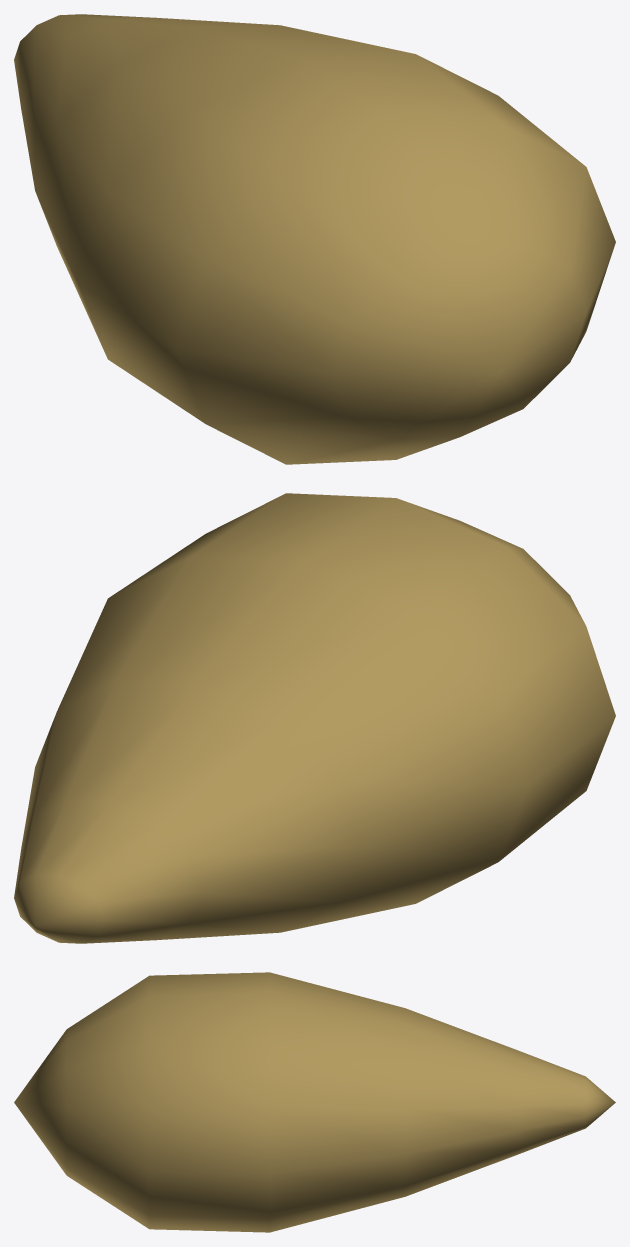
Rendered from seed.glb.
The picture shows the model from 3 angles, top to bottom: view 1: azimuth 30°, elevation 25°; view 2: azimuth 150°, elevation 25°; view 3: azimuth 270°, elevation 25°; orthographic projection. The views are drawn at different scales.
Visible parts, largest first — view 1: seed; view 2: seed; view 3: seed.
Boxes of the visible parts, x1=… form: seed: x1=14, y1=14, x2=615, y2=464; seed: x1=14, y1=493, x2=615, y2=943; seed: x1=14, y1=972, x2=615, y2=1232.
Bounding box in the file's own units: 0.0112 × 0.008 × 0.02.
